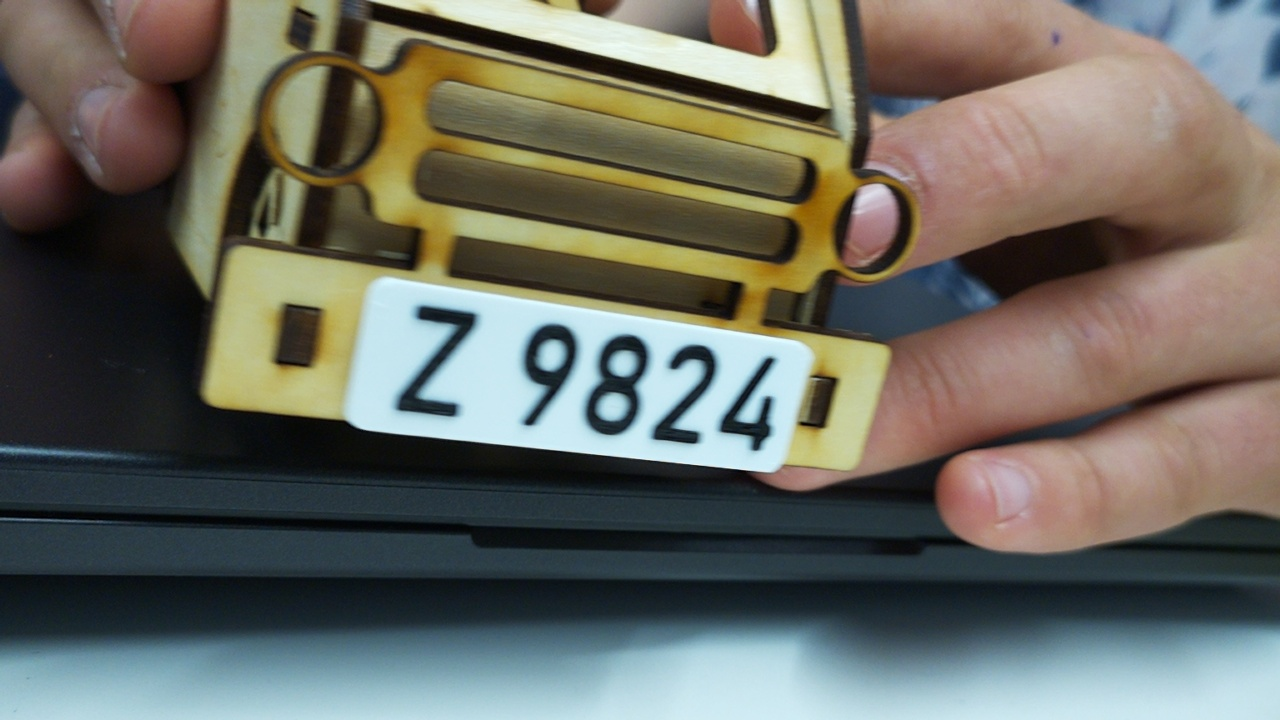license_plate: (341, 263, 818, 476)
